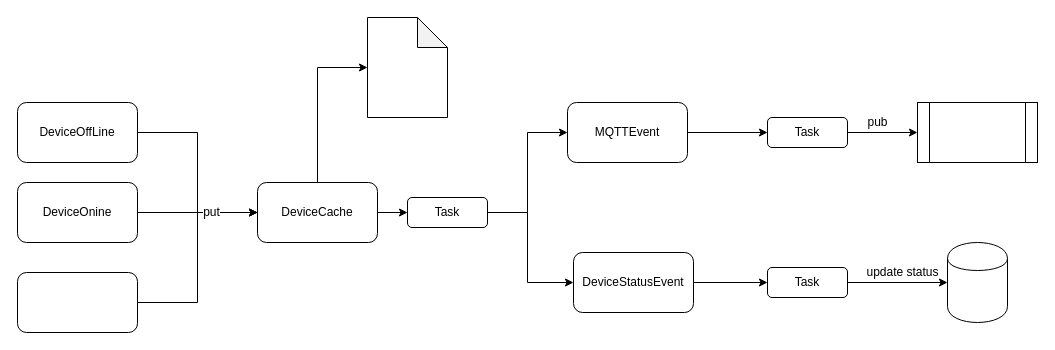
Some shapes in this 1055 by 350 pixel diagram are drawn without their labels. Each missing label, with the centre of its shape:
DB: the point at 977,282
DeviceStatus: the point at 77,302
MQTT: the point at 977,132
设备缓冲： 1、基础上报数据 2、判断对应事件类型 3、指标告警判断: the point at 407,67
